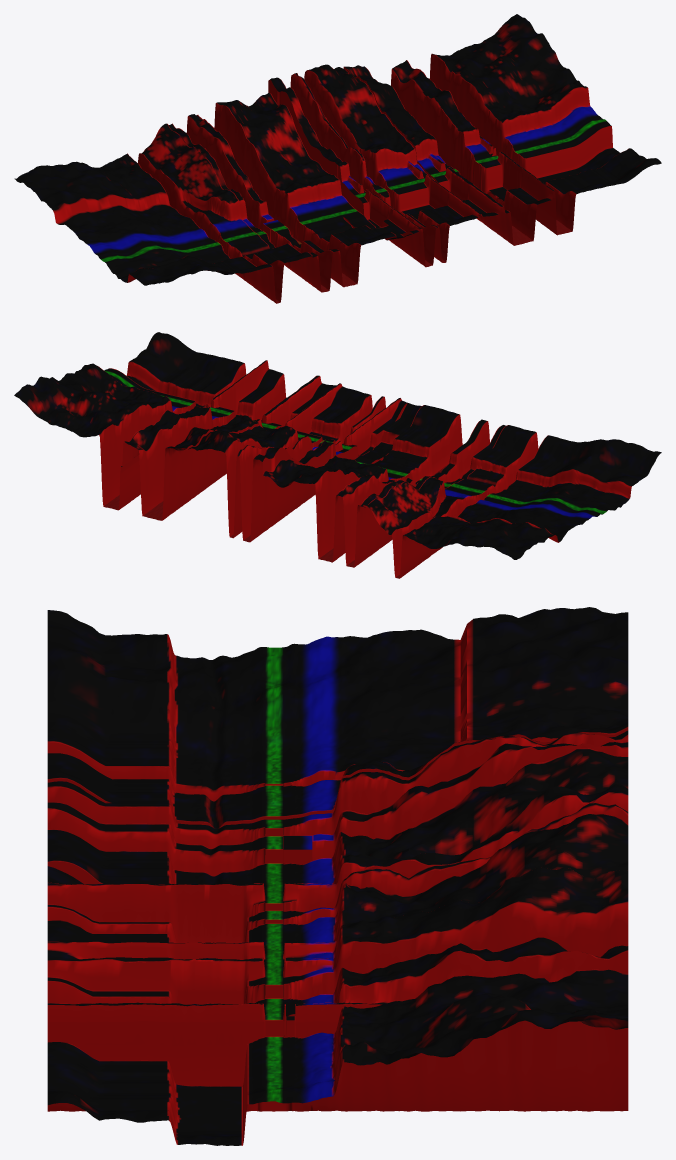
The model's file is terrain.glb.
The picture shows the model from 3 angles, top to bottom: view 1: azimuth 30°, elevation 25°; view 2: azimuth 150°, elevation 25°; view 3: azimuth 270°, elevation 25°; orthographic projection. The views are drawn at different scales.
Visible parts, largest first — view 1: valley_terrain; view 2: valley_terrain; view 3: valley_terrain.
Boxes of the visible parts, box(x1,y1,x2,y2) form: valley_terrain: box(14, 14, 661, 303); valley_terrain: box(14, 332, 661, 578); valley_terrain: box(47, 607, 628, 1145).
Bounding box in the file's own units: 360 × 65 × 180.
